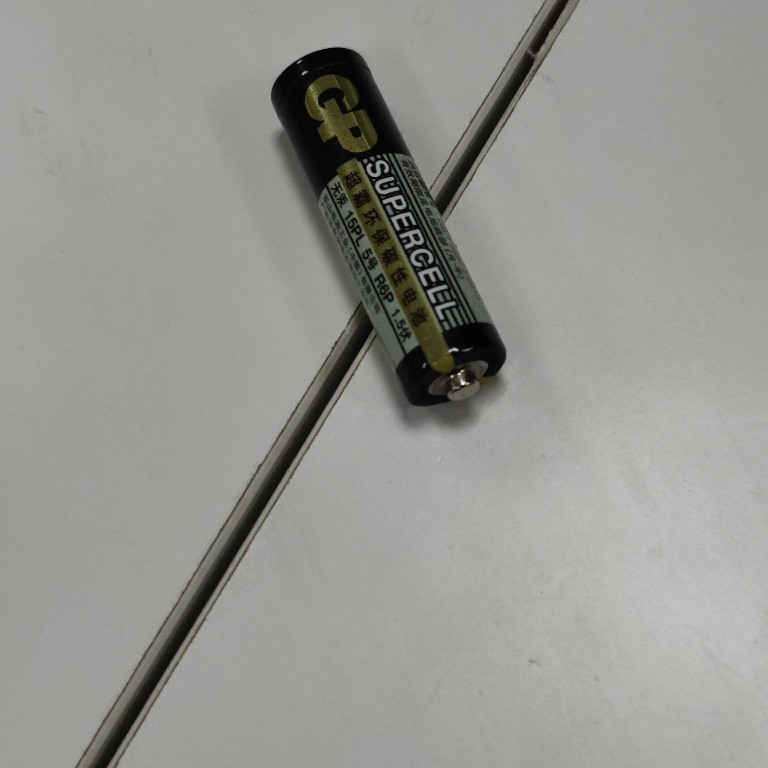charge: (268, 44, 511, 412)
